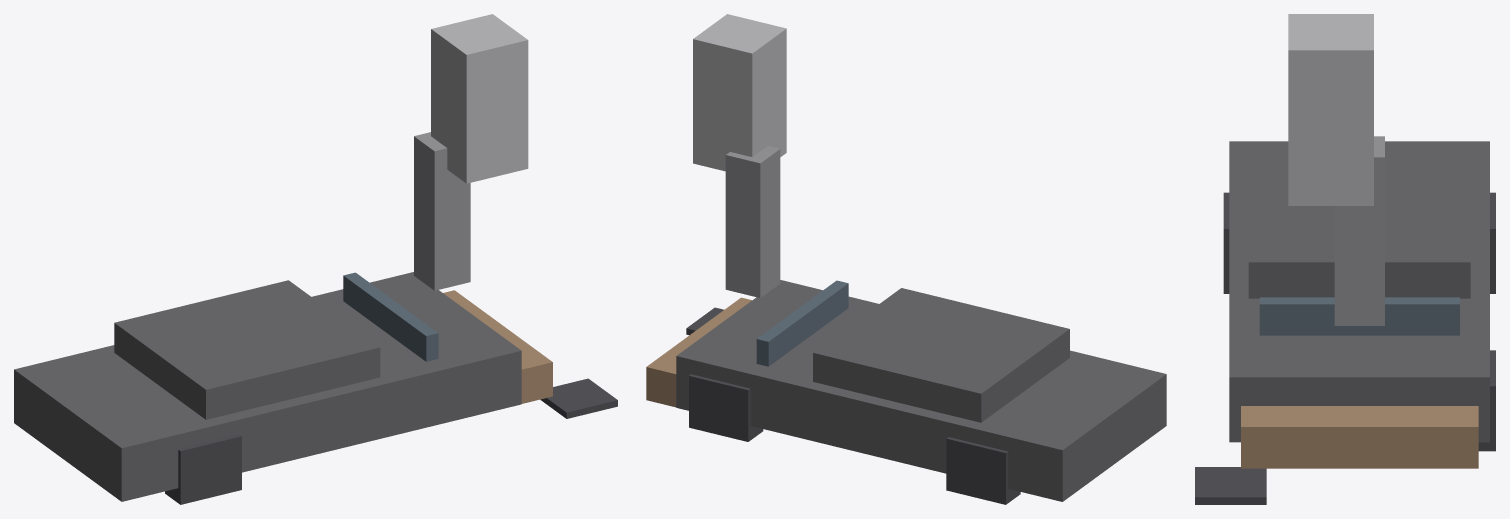
Rendered from AED_Wreck.gltf.
The picture shows the model from 3 angles, left to right: view 1: azimuth 30°, elevation 25°; view 2: azimuth 150°, elevation 25°; view 3: azimuth 270°, elevation 25°; orthographic projection. The views are drawn at different scales.
Parts seen in each view (by area): view 1: AED_Wreck; view 2: AED_Wreck; view 3: AED_Wreck.
Boxes of the visible parts, x1,y1,x2,y2 form: AED_Wreck: (14, 14, 617, 504); AED_Wreck: (646, 14, 1166, 504); AED_Wreck: (1195, 14, 1495, 504).
Bounding box in the file's own units: 4.7 × 3.3 × 2.1.
